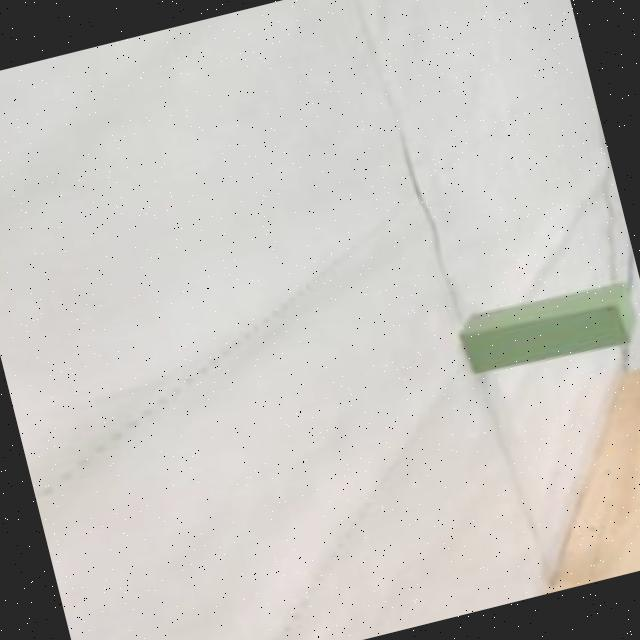greenbox: (457, 277, 640, 384)
